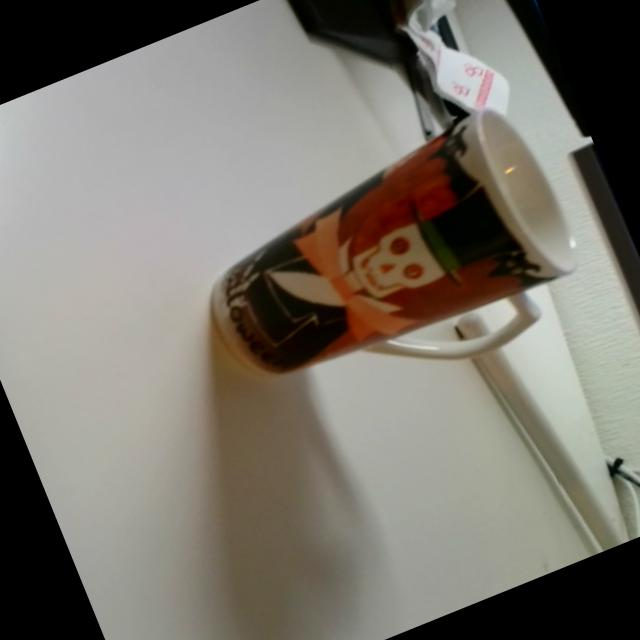Halloween cup: (172, 92, 603, 448)
